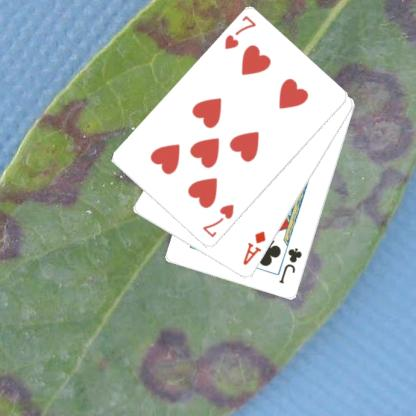7H: (199, 201, 235, 239), (222, 13, 257, 51)
AD: (240, 229, 268, 267)
JC: (276, 245, 304, 286)
